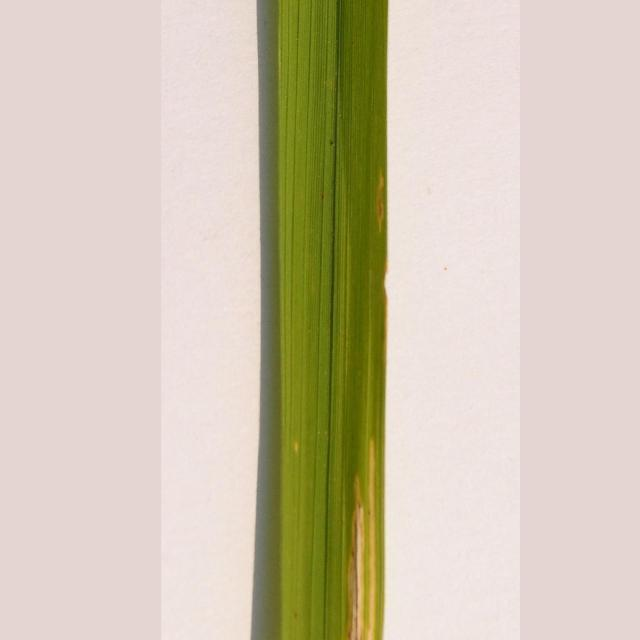Bacterial_Leaf_Blight: (343, 429, 392, 640), (356, 161, 396, 231)
